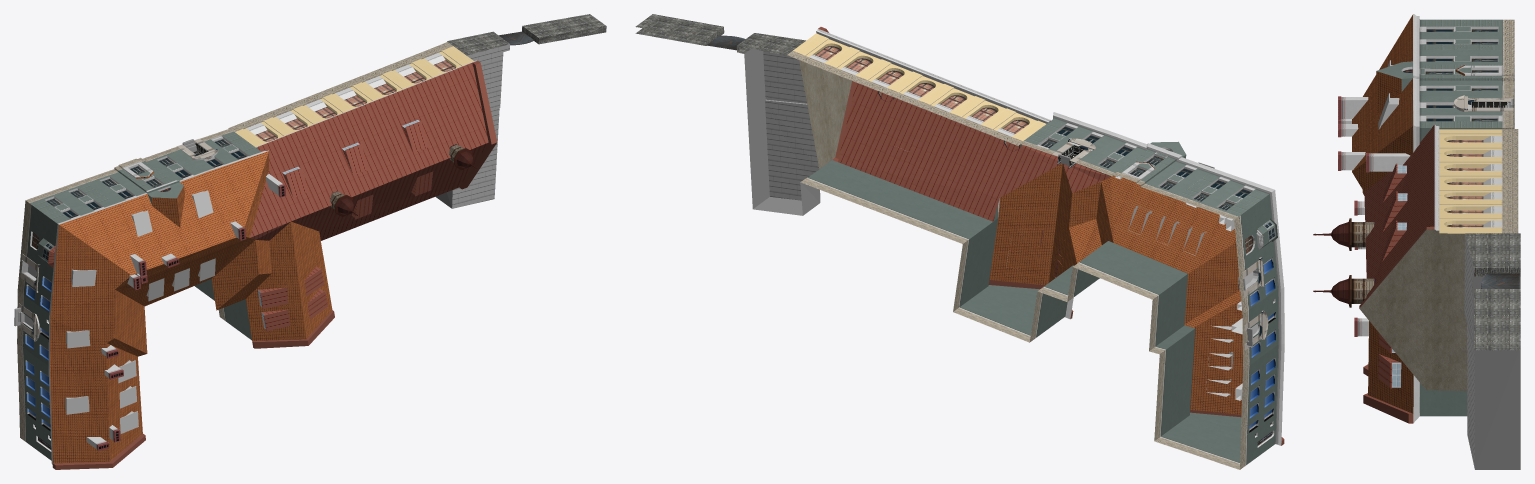
The picture shows the model from 3 angles, left to right: view 1: azimuth 30°, elevation 25°; view 2: azimuth 150°, elevation 25°; view 3: azimuth 270°, elevation 25°; orthographic projection. The views are drawn at different scales.
Parts seen in each view (by area): view 1: building; view 2: building; view 3: building.
Part boxes in pixels (x1,y1,x2,y2): building: [14, 14, 606, 469]; building: [635, 14, 1284, 469]; building: [1313, 14, 1520, 469].
Size of the model in its own units: 82.52 by 40.23 by 18.21.
